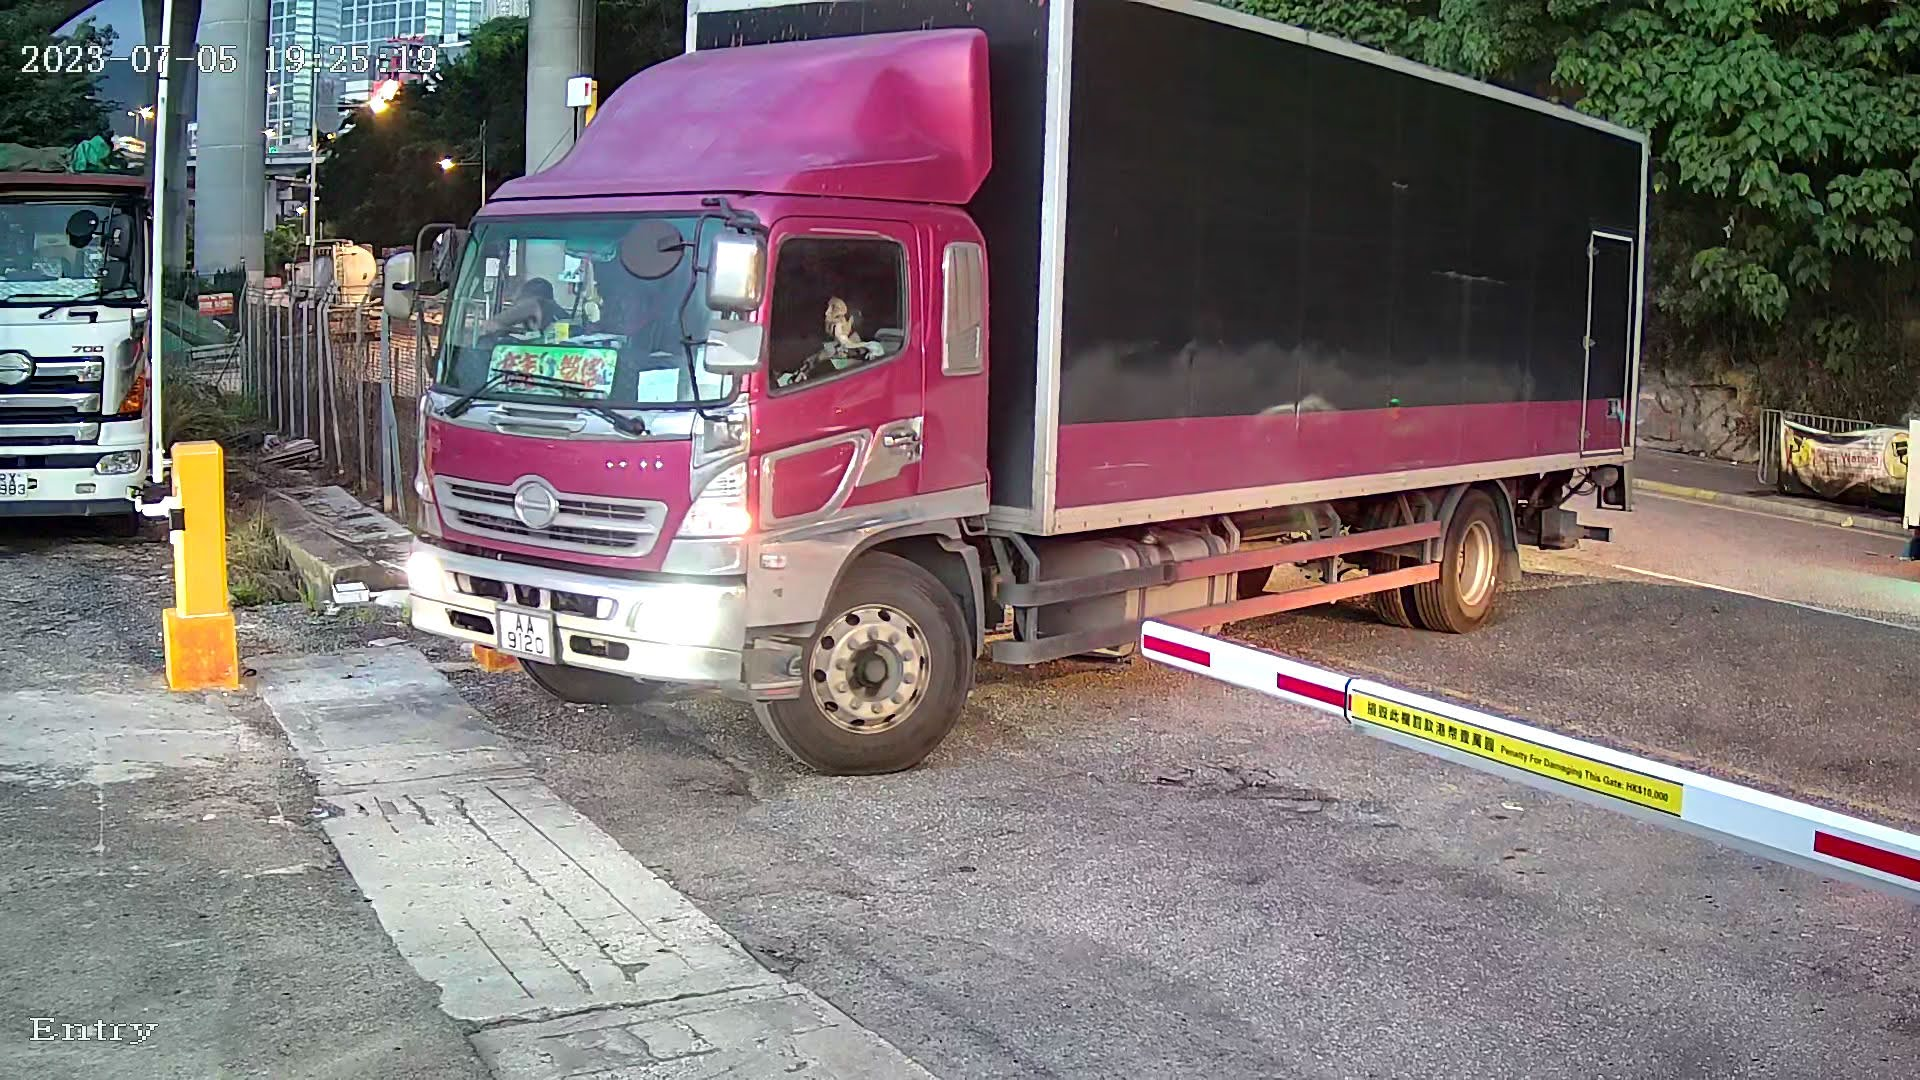truck_large: (385, 1, 1685, 775)
